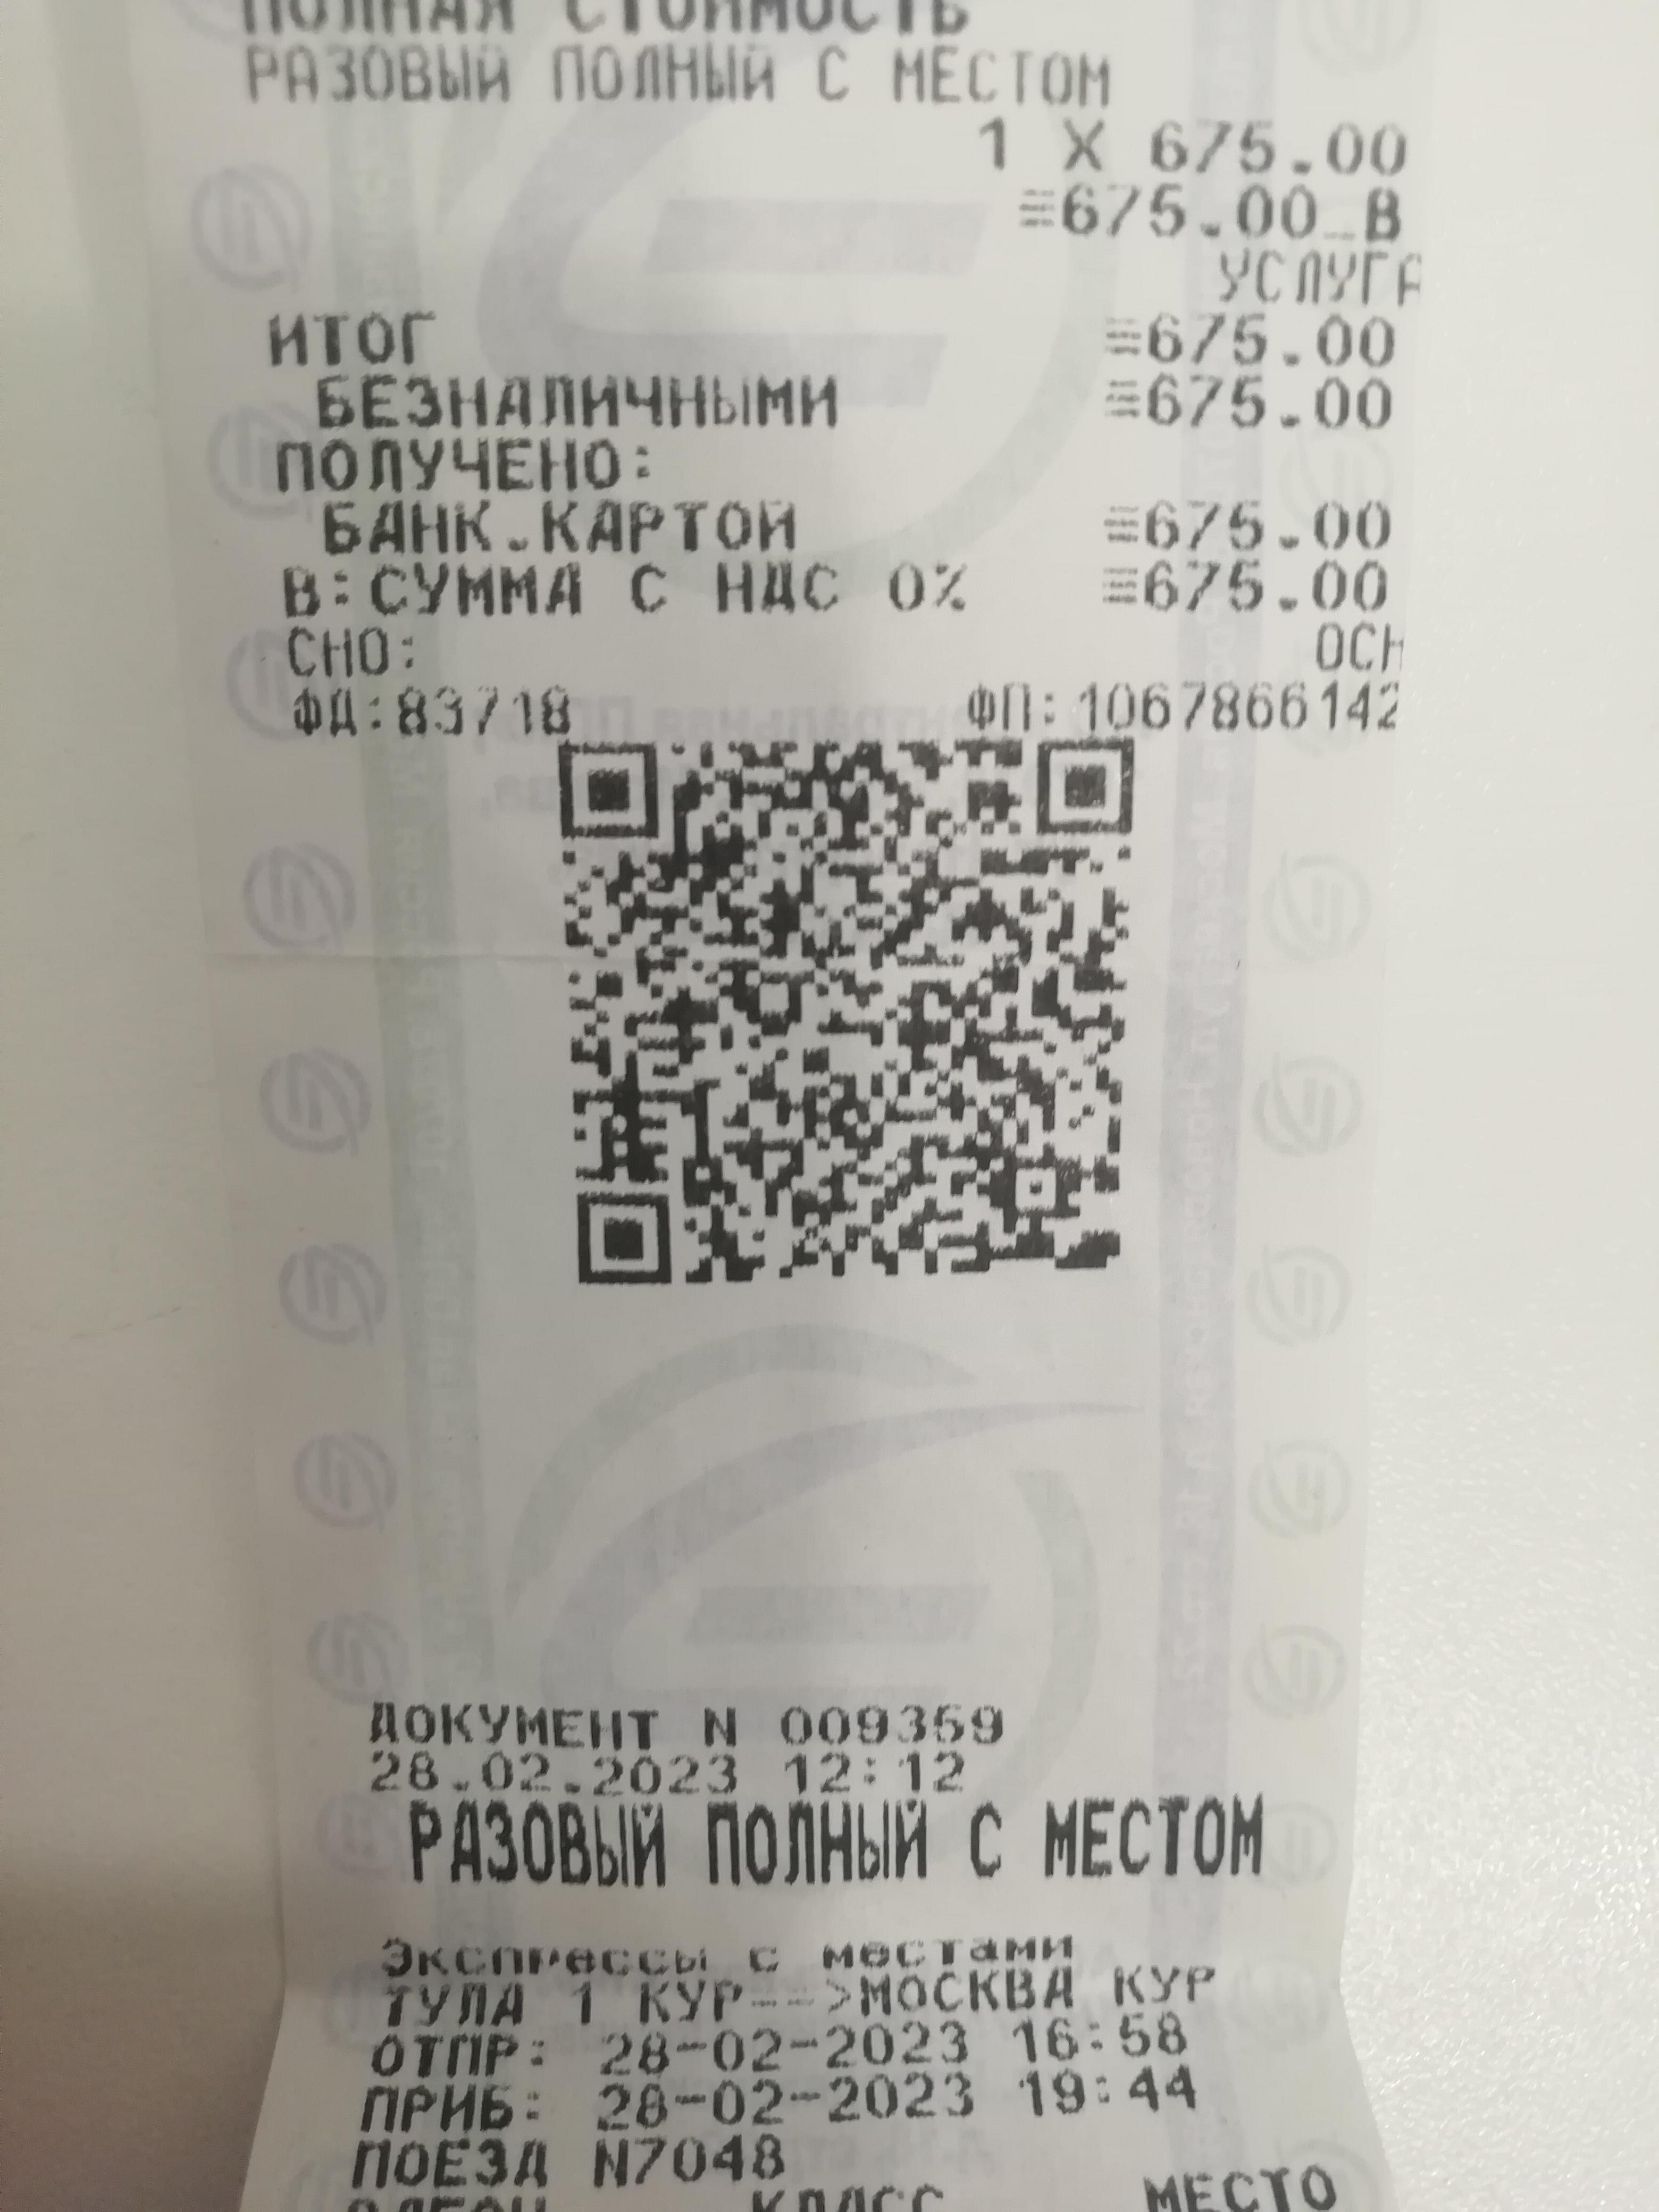qrcode: (556, 737, 1136, 1291)
